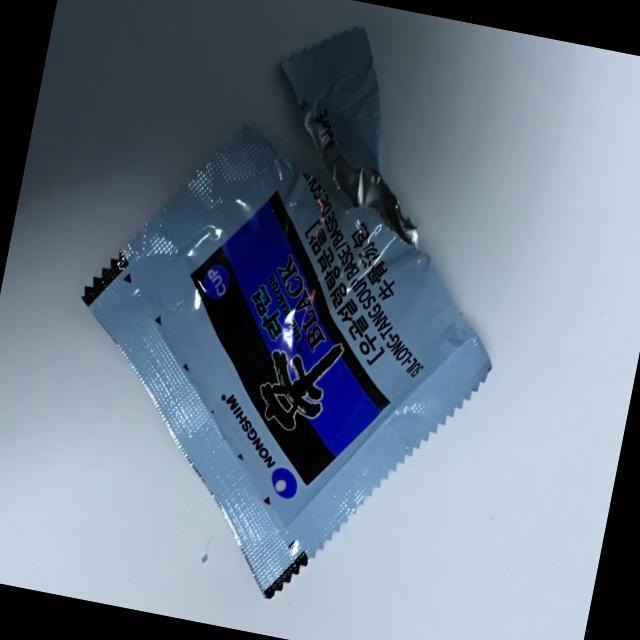plastic: (0, 0, 560, 640)
